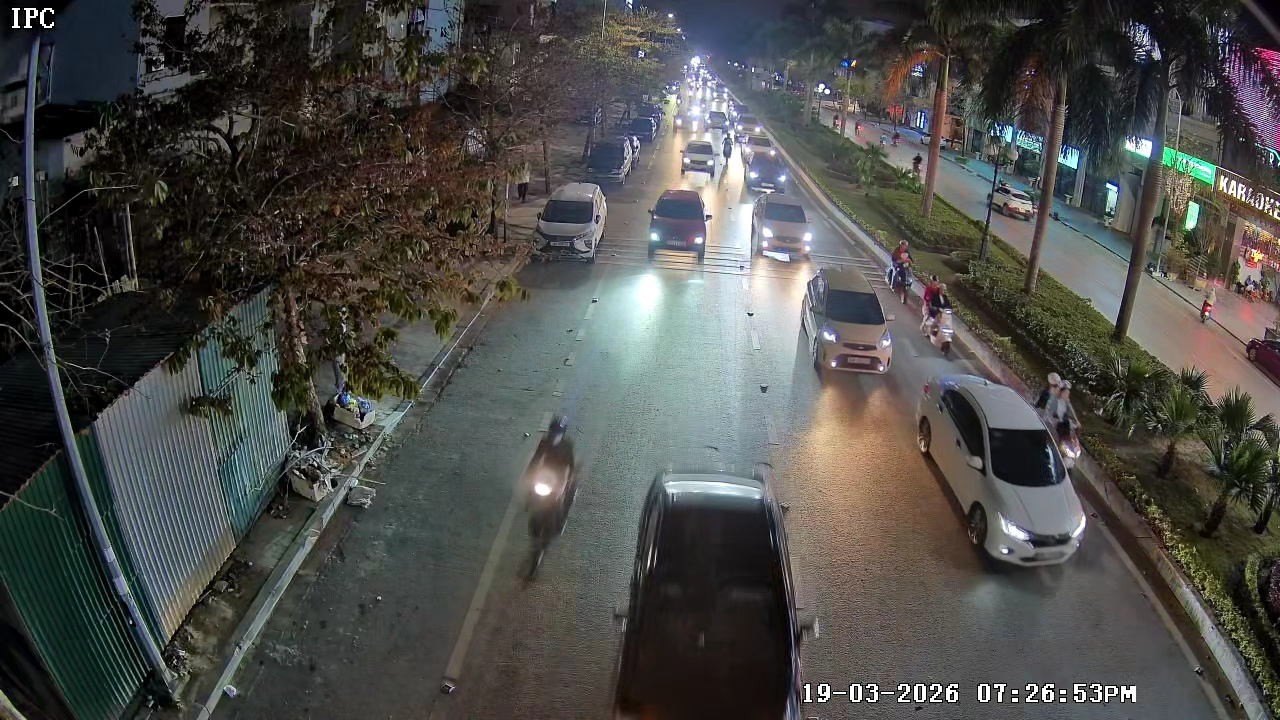car: (915, 374, 1086, 566), (801, 262, 894, 376), (535, 180, 610, 260), (745, 191, 821, 262), (645, 186, 712, 264), (748, 158, 790, 195), (682, 138, 719, 179)
exception: (1033, 370, 1084, 478)
motorbike: (517, 411, 581, 582), (920, 265, 964, 361), (886, 241, 919, 306), (717, 131, 737, 162)
